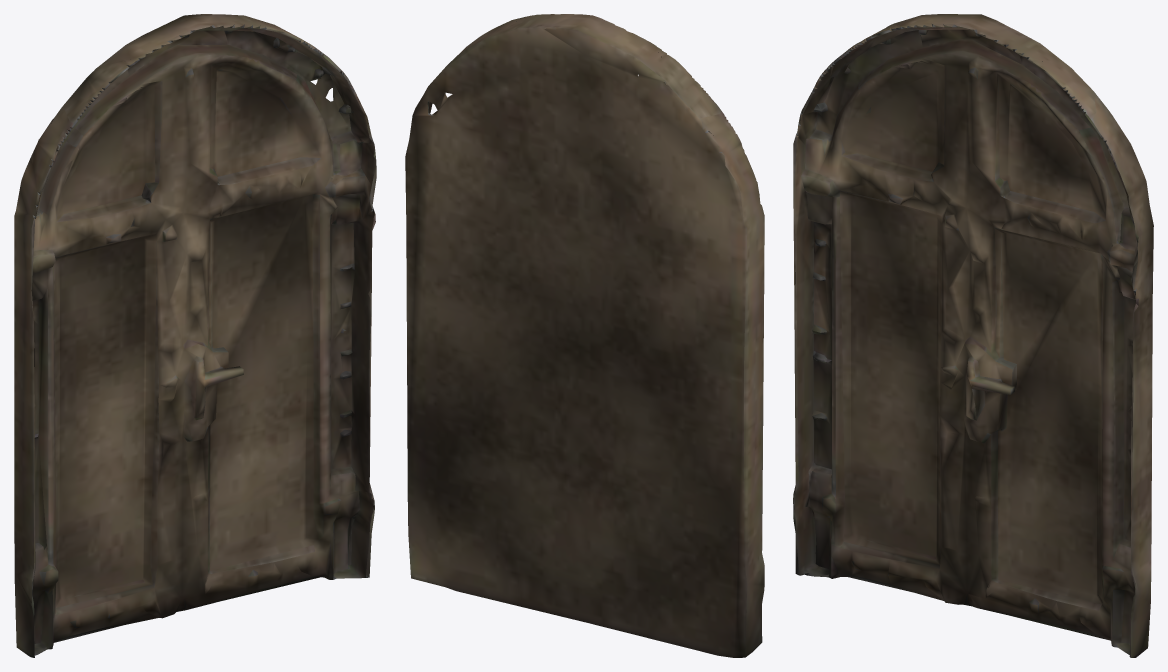
The model's file is chipped-wood-castle-door-v001.glb.
The picture shows the model from 3 angles, left to right: view 1: azimuth 30°, elevation 25°; view 2: azimuth 150°, elevation 25°; view 3: azimuth 330°, elevation 25°; orthographic projection.
Parts seen in each view (by area): view 1: chipped-wood-castle-door; view 2: chipped-wood-castle-door; view 3: chipped-wood-castle-door.
Boxes of the visible parts, <box> form: chipped-wood-castle-door: <box>14,14,376,657</box>; chipped-wood-castle-door: <box>405,14,764,657</box>; chipped-wood-castle-door: <box>793,14,1153,657</box>.
Bounding box in the file's own units: 1.37 × 2.27 × 0.1316.
1 material, 1 textured.
